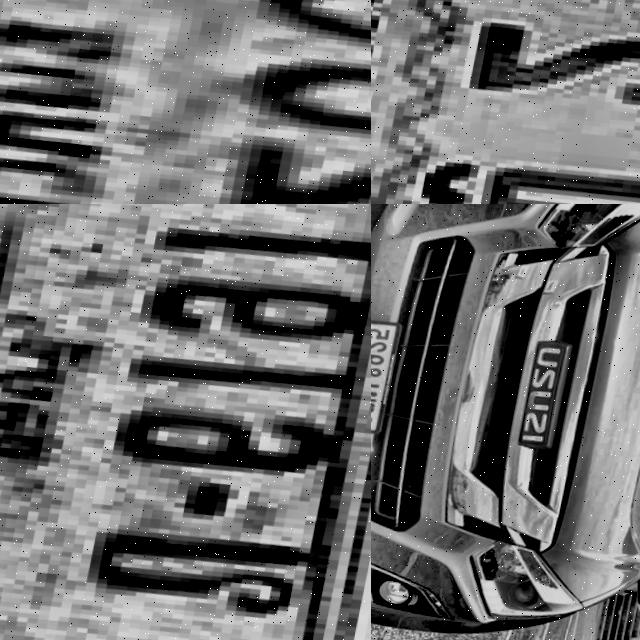license-plate: (0, 204, 371, 640), (0, 0, 371, 204), (371, 0, 640, 204), (371, 310, 408, 438)
